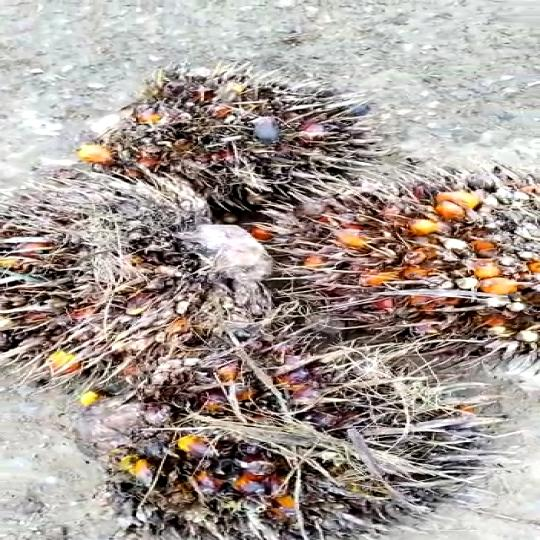terlalu masak: (114, 352, 474, 540), (0, 174, 276, 384), (252, 173, 540, 348), (63, 78, 392, 212)
